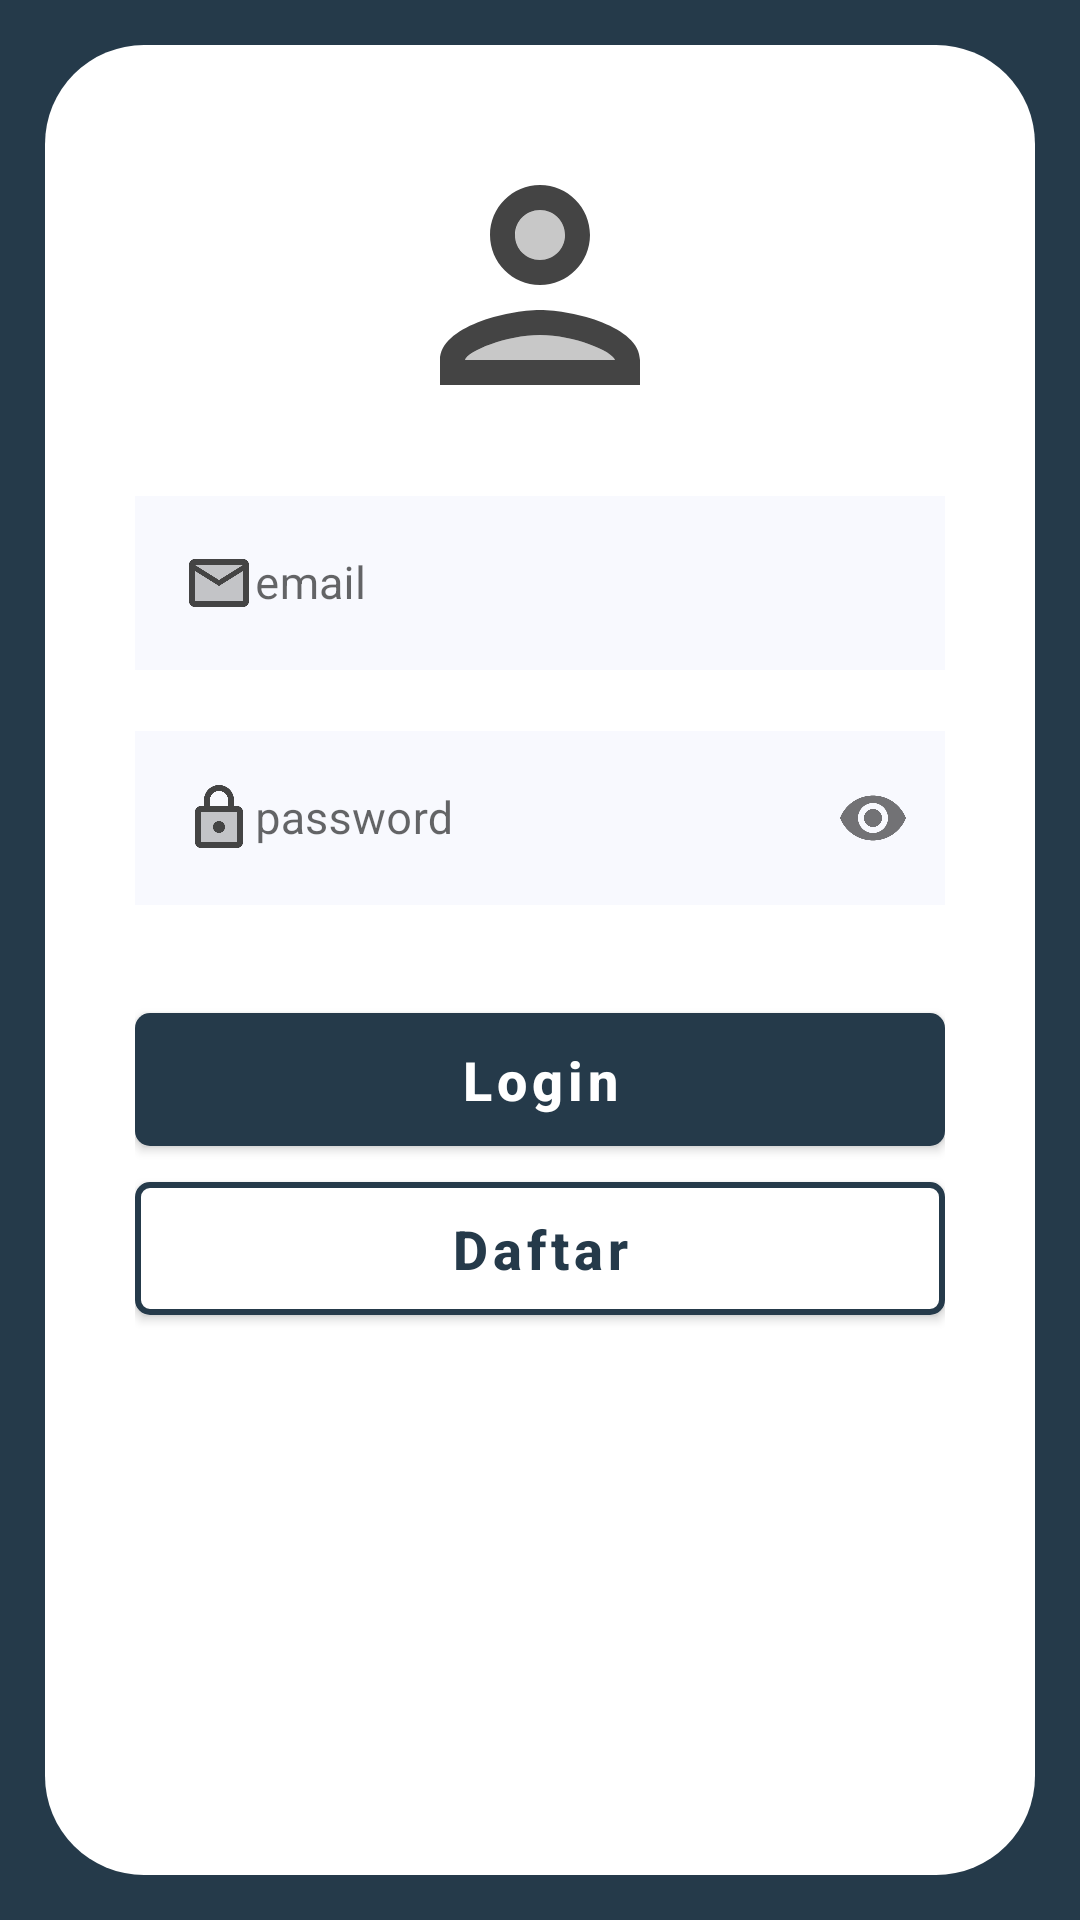

Icons on this 1080 x 1920 Android screen, each with the point to tap as (x,y):
person: (540,285)
